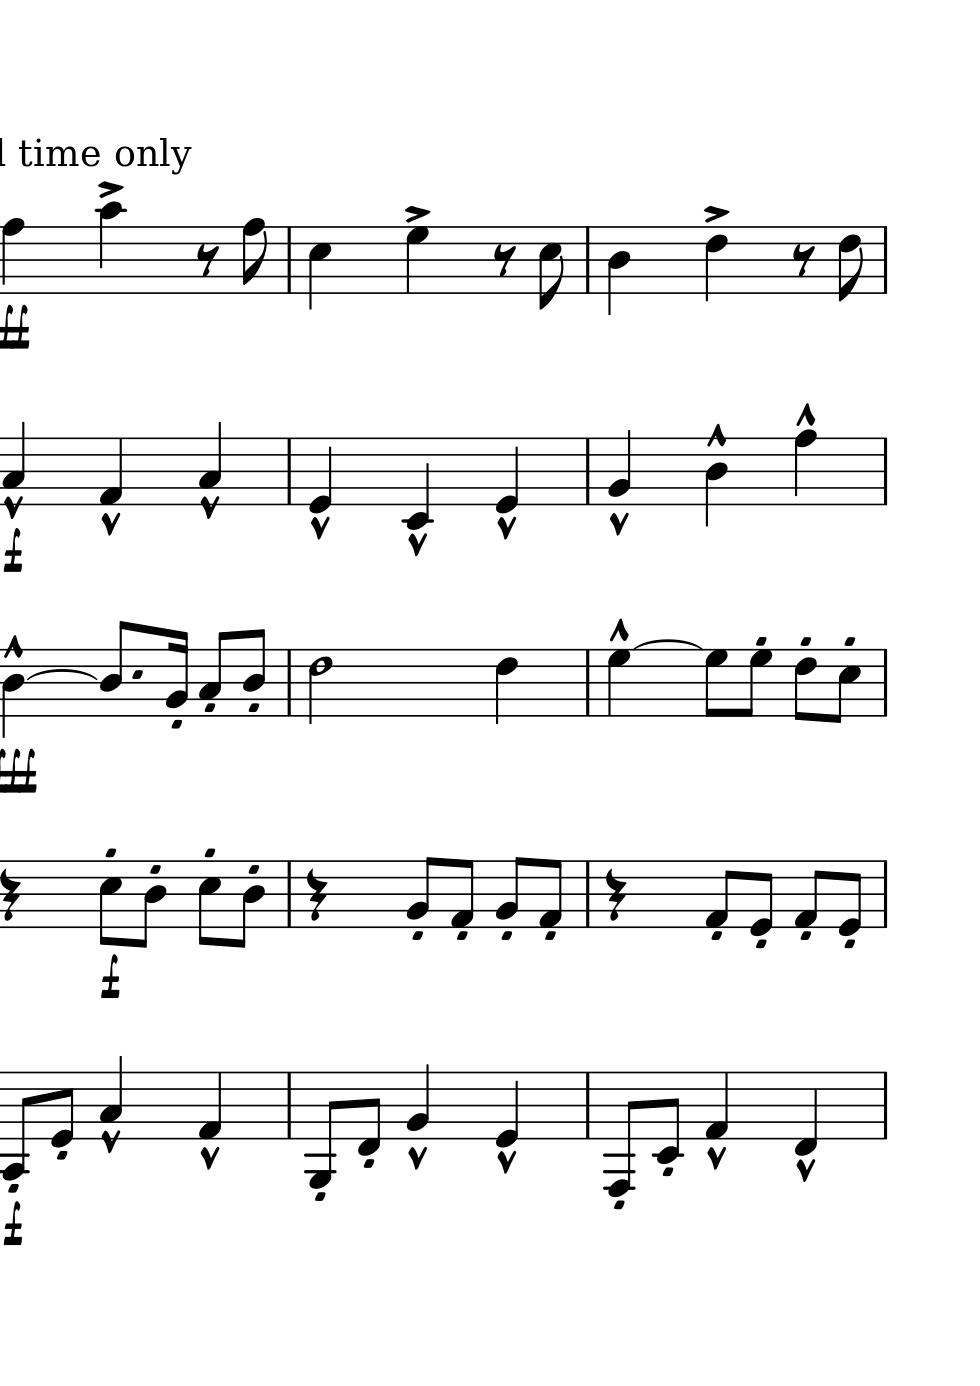16_2: (163, 629, 189, 718)
2_6: (307, 647, 331, 725)
4_-1: (791, 1069, 818, 1158)
4_-2: (403, 434, 431, 531)
4_0: (307, 435, 333, 514), (493, 436, 519, 515), (493, 1069, 519, 1148)
4_1: (702, 1070, 730, 1141), (97, 436, 123, 505), (196, 1070, 222, 1141)
4_10: (97, 199, 124, 297)
4_2: (404, 1062, 431, 1140), (607, 428, 632, 507)
4_3: (97, 1054, 123, 1139), (196, 420, 222, 507), (2, 421, 27, 508)
4_4: (605, 224, 630, 317), (703, 436, 729, 527), (1, 654, 25, 736)
4_5: (307, 224, 332, 311)
4_6: (702, 224, 729, 308), (492, 647, 518, 727)
4_7: (603, 648, 631, 718), (403, 225, 430, 295)
4_8: (791, 428, 818, 508), (1, 216, 25, 295)
8_-1: (356, 1070, 381, 1158)
8_-2: (653, 1070, 681, 1163)
8_-4: (1, 1070, 31, 1182)
8_-5: (304, 1070, 338, 1190)
8_-6: (603, 1070, 638, 1196)
8_0: (747, 859, 775, 938), (835, 860, 862, 938), (49, 1070, 75, 1150)
8_1: (702, 859, 736, 930), (791, 859, 824, 930), (447, 857, 475, 929), (536, 858, 564, 930)
8_2: (492, 855, 525, 929), (403, 855, 436, 928)
8_3: (197, 629, 228, 717)
8_4: (98, 619, 132, 718), (234, 860, 267, 952), (135, 860, 167, 951), (241, 626, 266, 716)
8_5: (829, 647, 862, 725), (536, 224, 564, 313), (97, 858, 122, 948), (195, 859, 221, 948)
8_6: (836, 225, 865, 305), (791, 648, 817, 724)
8_7: (740, 647, 772, 718), (702, 647, 727, 720)
8_8: (239, 217, 268, 296)
Accent_above: (701, 203, 731, 223), (97, 178, 125, 198), (402, 204, 432, 223)
Marcato_above: (793, 402, 818, 429), (607, 617, 631, 645), (704, 1144, 729, 1171), (704, 422, 728, 450), (793, 1157, 818, 1182), (405, 532, 430, 557), (1, 494, 24, 520), (99, 510, 122, 536), (99, 1127, 122, 1153), (308, 515, 332, 539), (198, 1144, 222, 1169), (608, 510, 630, 536), (2, 634, 24, 660), (495, 515, 518, 539), (495, 1150, 518, 1173), (199, 494, 221, 519)
Rests4: (602, 866, 627, 924), (304, 866, 328, 923), (1, 866, 21, 923)
Rests8: (790, 242, 816, 279), (490, 243, 517, 278), (194, 242, 220, 278)
Single_barline: (579, 861, 596, 928), (281, 649, 298, 715), (281, 227, 298, 292), (877, 437, 893, 505), (877, 649, 893, 717), (281, 1072, 297, 1140), (579, 226, 595, 293), (877, 226, 893, 293), (579, 437, 595, 504), (877, 1072, 893, 1139), (282, 438, 298, 504), (281, 861, 297, 926), (877, 861, 892, 929), (580, 1072, 595, 1140), (580, 649, 595, 715)
Slur: (631, 638, 701, 651), (25, 669, 98, 681)
dot: (129, 667, 145, 681)
f: (98, 954, 121, 1001), (3, 528, 23, 575), (2, 1201, 22, 1247)
ff: (1, 301, 29, 347)
